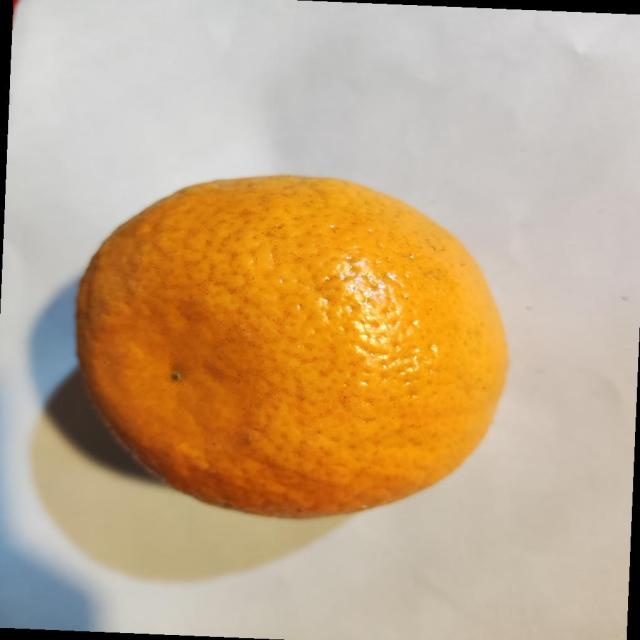agrume: (74, 172, 510, 520)
